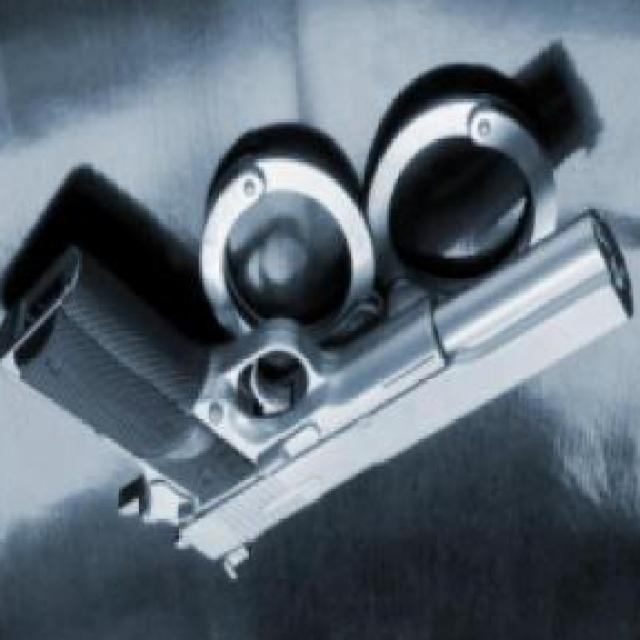pistol: (15, 166, 618, 571)
